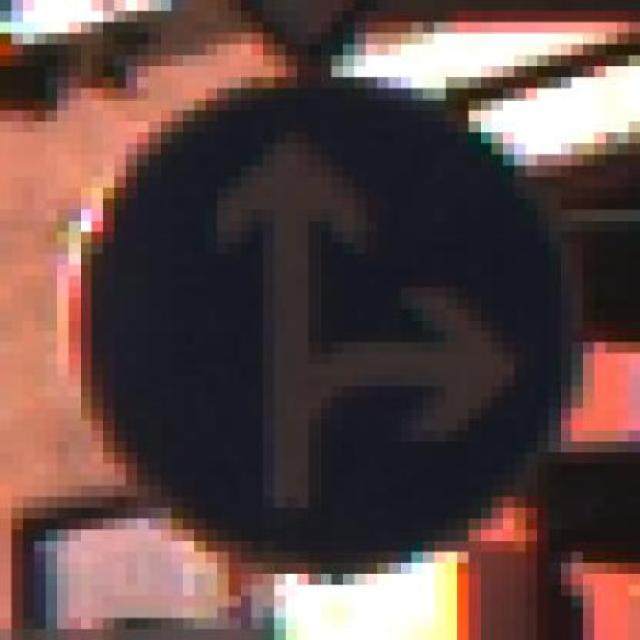Go Straight or Turn Right: (68, 54, 594, 586)
